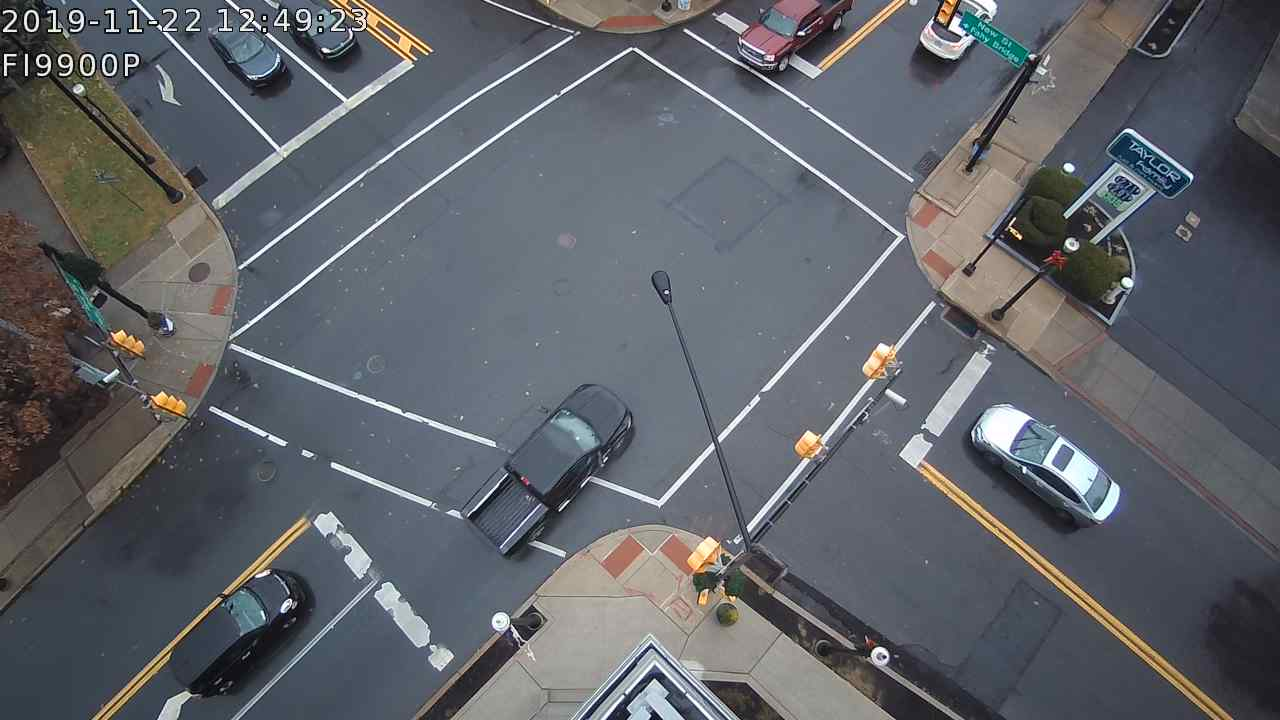car: (459, 386, 633, 551), (968, 400, 1125, 526), (165, 563, 313, 692), (729, 1, 845, 75), (214, 17, 287, 93), (283, 1, 357, 69)
